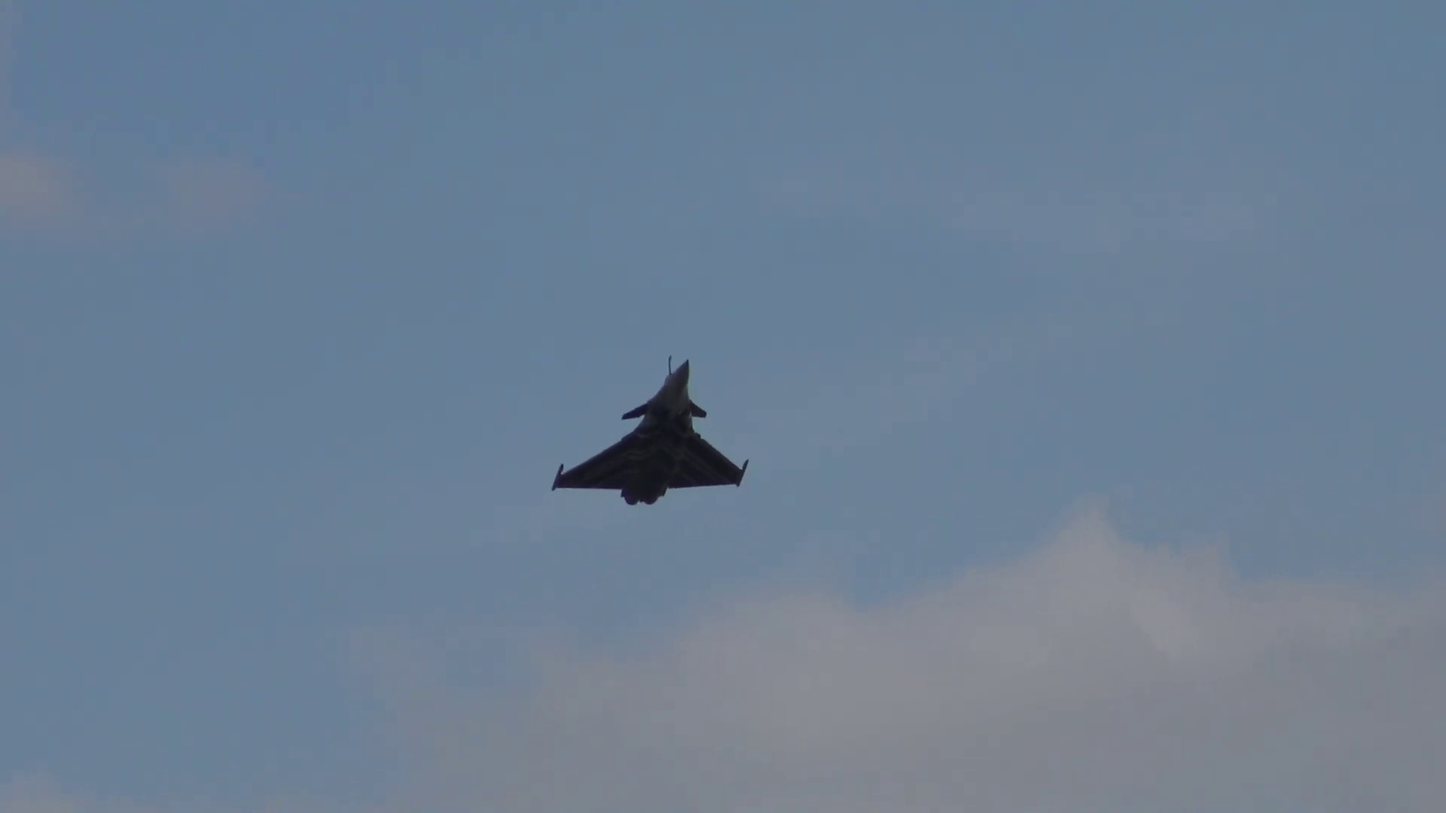Rafale: (551, 355, 749, 505)
